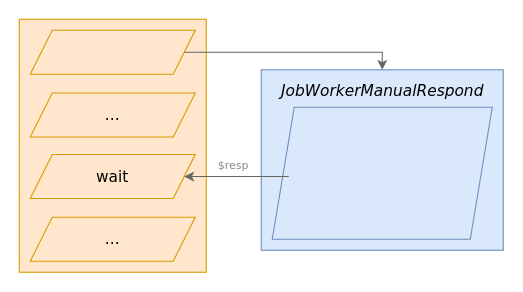
The diagram is 523 pixels wide and 292 high, and some of its shapes have lost their labels. The shapes that lost their labels are listed below. From the top down, each one's centre as x and y in pixels, then its label:
the point at 112,51: start
the point at 381,172: handleRequest respondAndContinueExecution() ...
